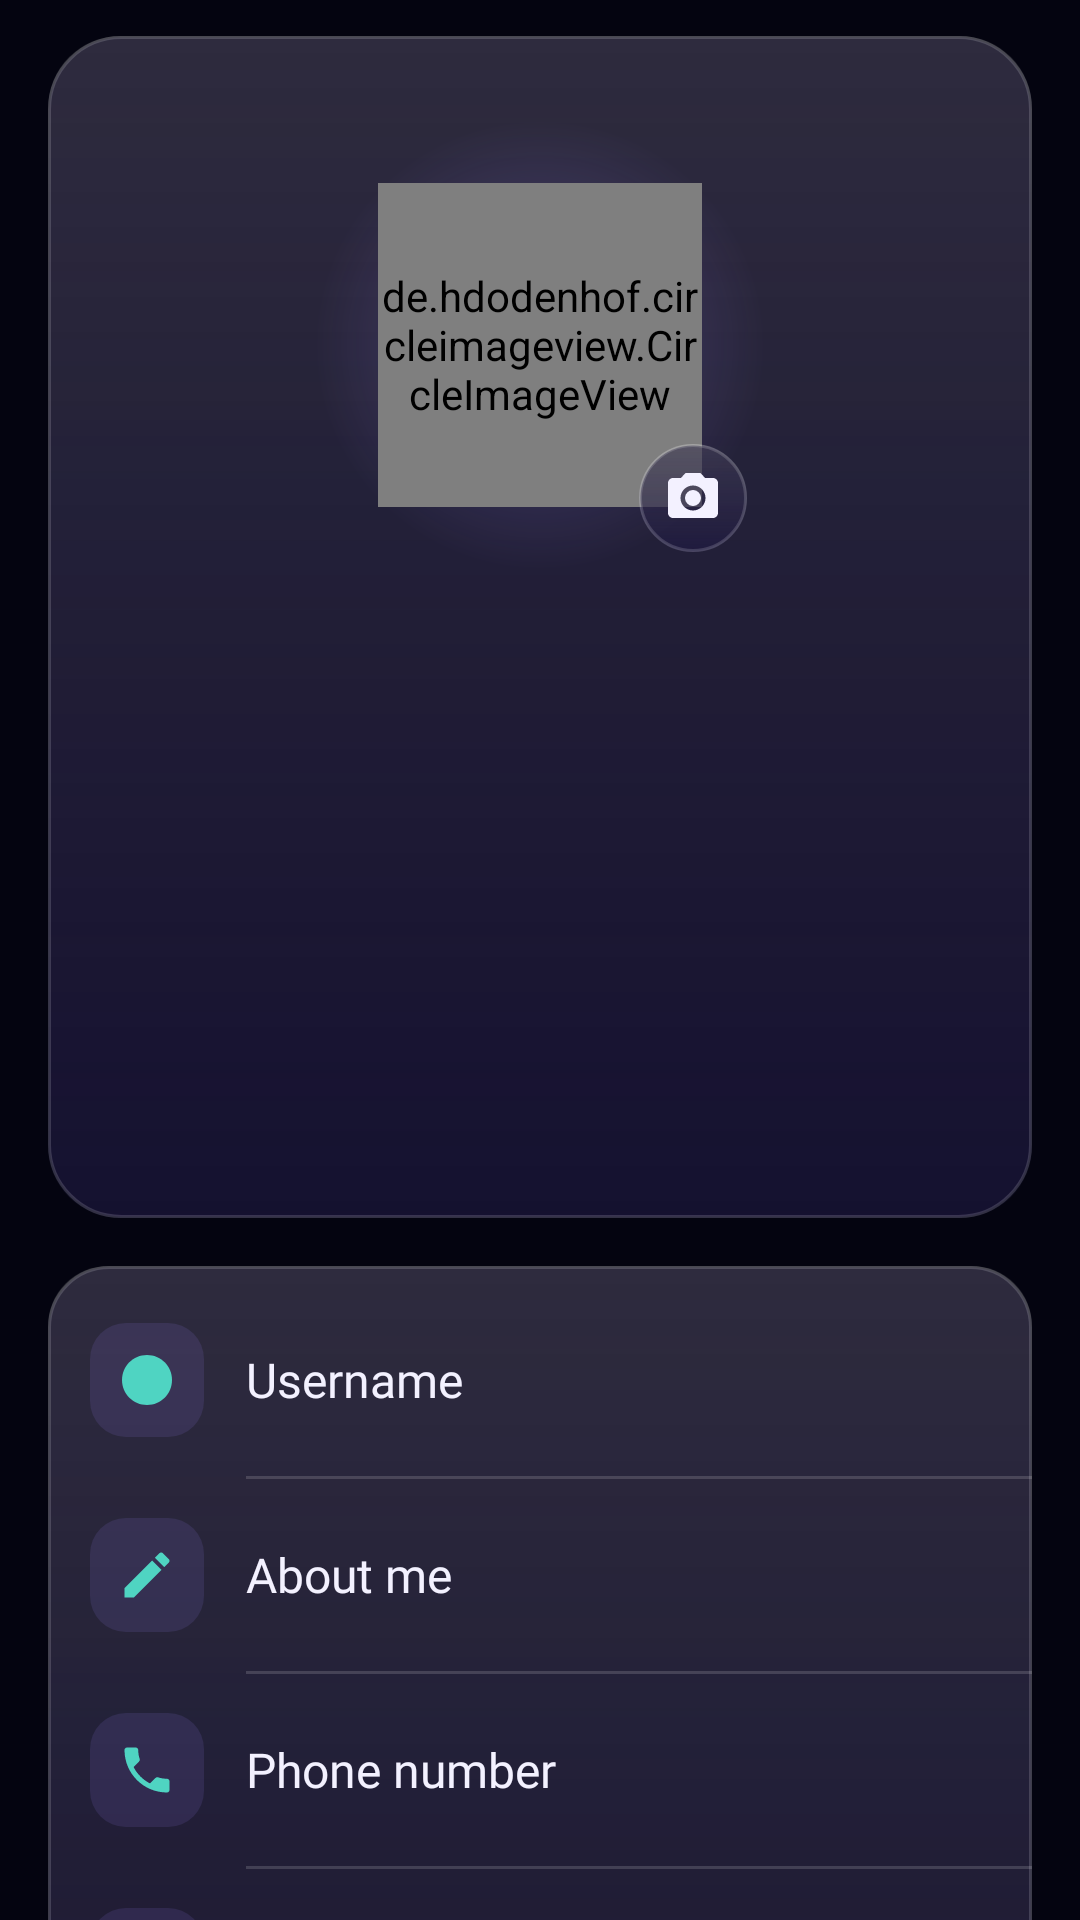

Where to tap for icons on this 1080px×1920px app screen, as point (x, y):
camera: point (693, 498)
edit: point (147, 1575)
